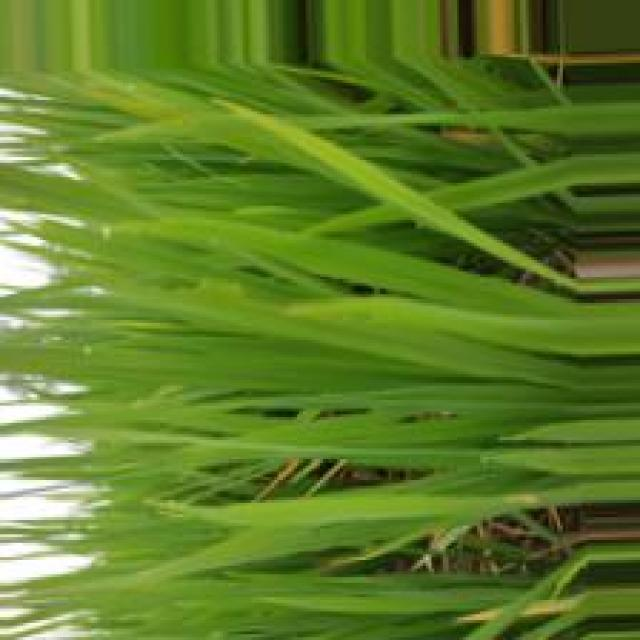HealthyLeaf: (332, 245, 496, 308), (176, 354, 308, 386), (438, 385, 515, 412)
